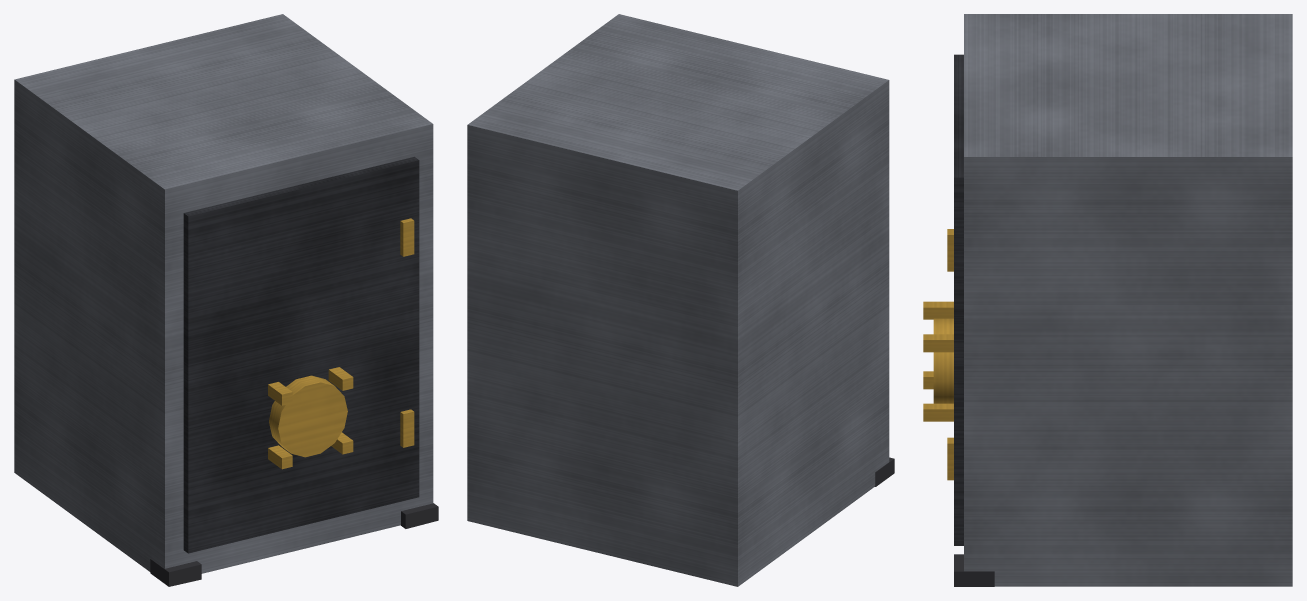
Rendered from Safe.fbx.
3 renders of one model, left to right at view 1: azimuth 30°, elevation 25°; view 2: azimuth 150°, elevation 25°; view 3: azimuth 270°, elevation 25°, orthographic. The views are drawn at different scales.
Visible parts, largest first — view 1: Safe; view 2: Safe; view 3: Safe.
Part boxes in pixels (<box>): Safe: <box>14,14,438,586</box>; Safe: <box>467,14,894,586</box>; Safe: <box>923,14,1292,586</box>.
Bounding box in the file's own units: 1 × 1.4 × 1.09.
Materials: 4 (3 with a texture image).
